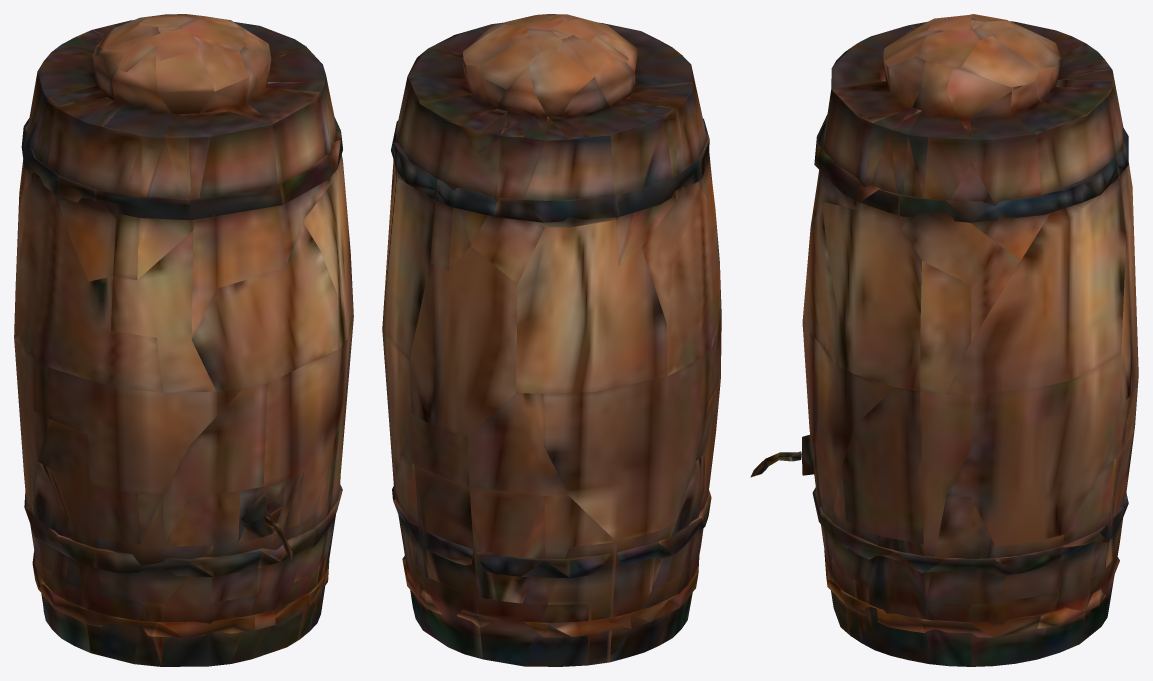
The model's file is barrel-small.lod2.glb.
3 renders of one model, left to right at view 1: azimuth 30°, elevation 25°; view 2: azimuth 150°, elevation 25°; view 3: azimuth 270°, elevation 25°, orthographic.
Size of the model in its own units: 0.3223 by 0.6 by 0.3656.
1 material, 1 textured.
